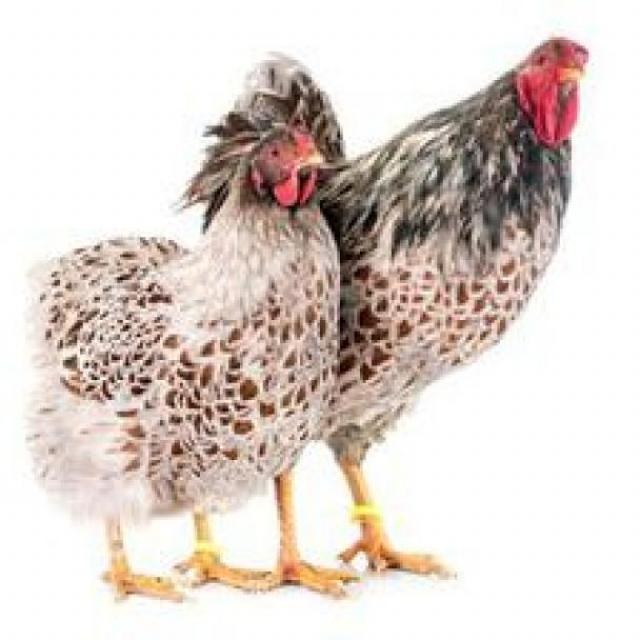Chicken: (217, 23, 597, 581), (31, 124, 343, 619)
